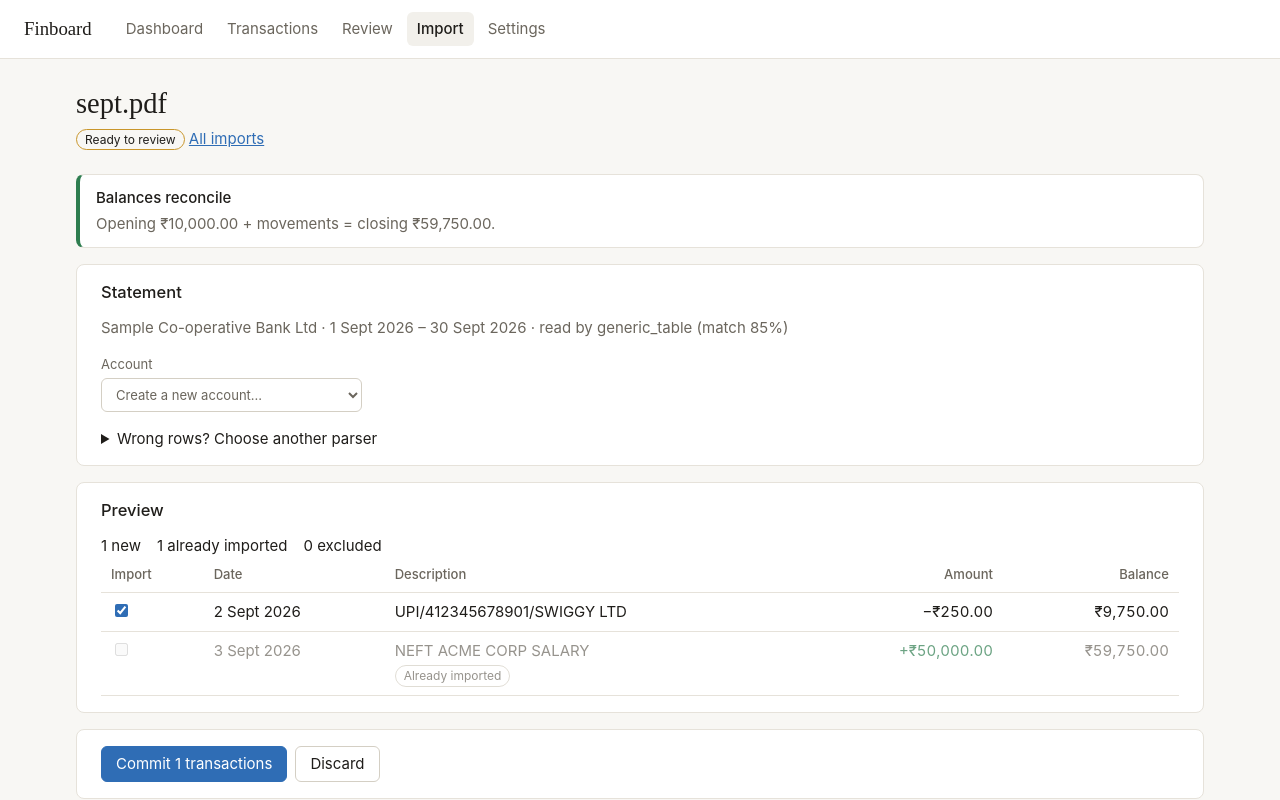
it: Import page › excludes a row from the import
The image size is (1280, 800).
Click the checkbox named "Import row 1" at (122, 610), box [115,604,128,617]
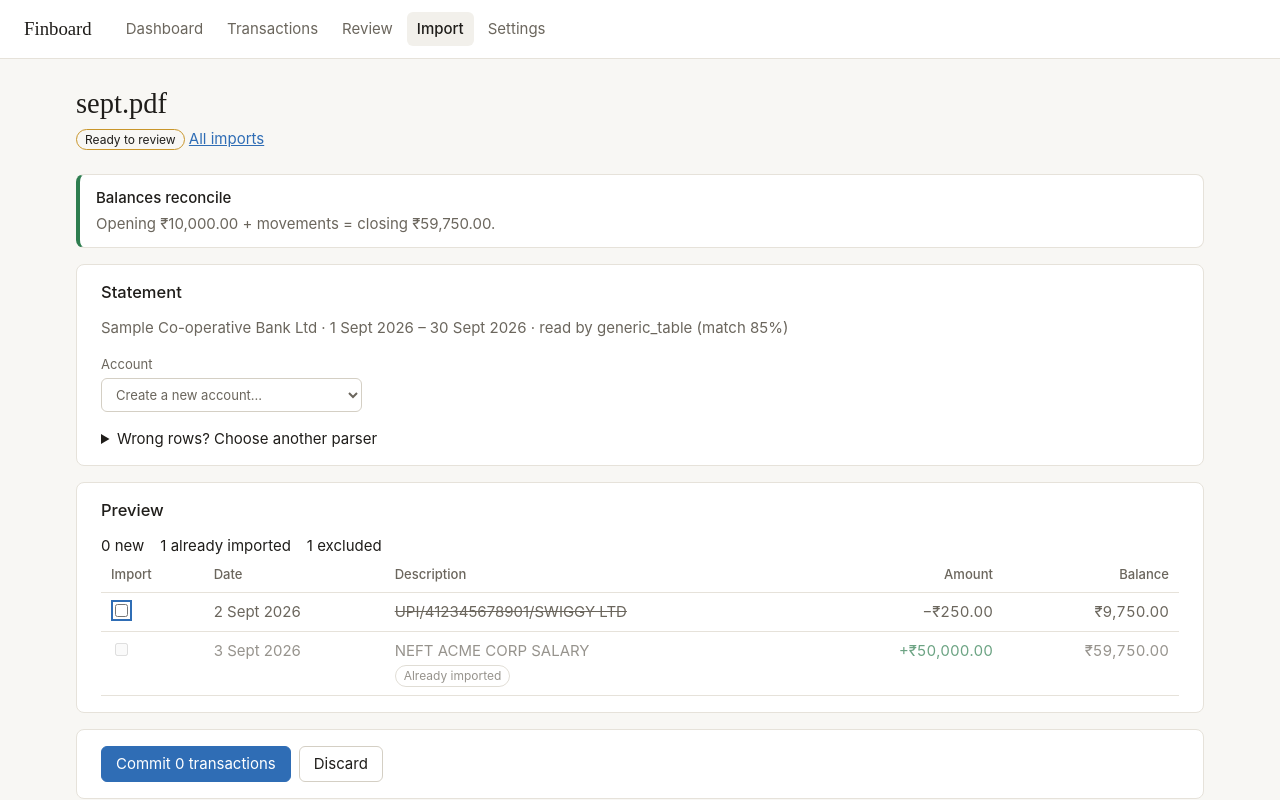
expect the checkbox named "Import row 1" is not checked: met, box [115,604,128,617]
expect the list item "1 excluded" is shown: met, box [307,535,382,557]
